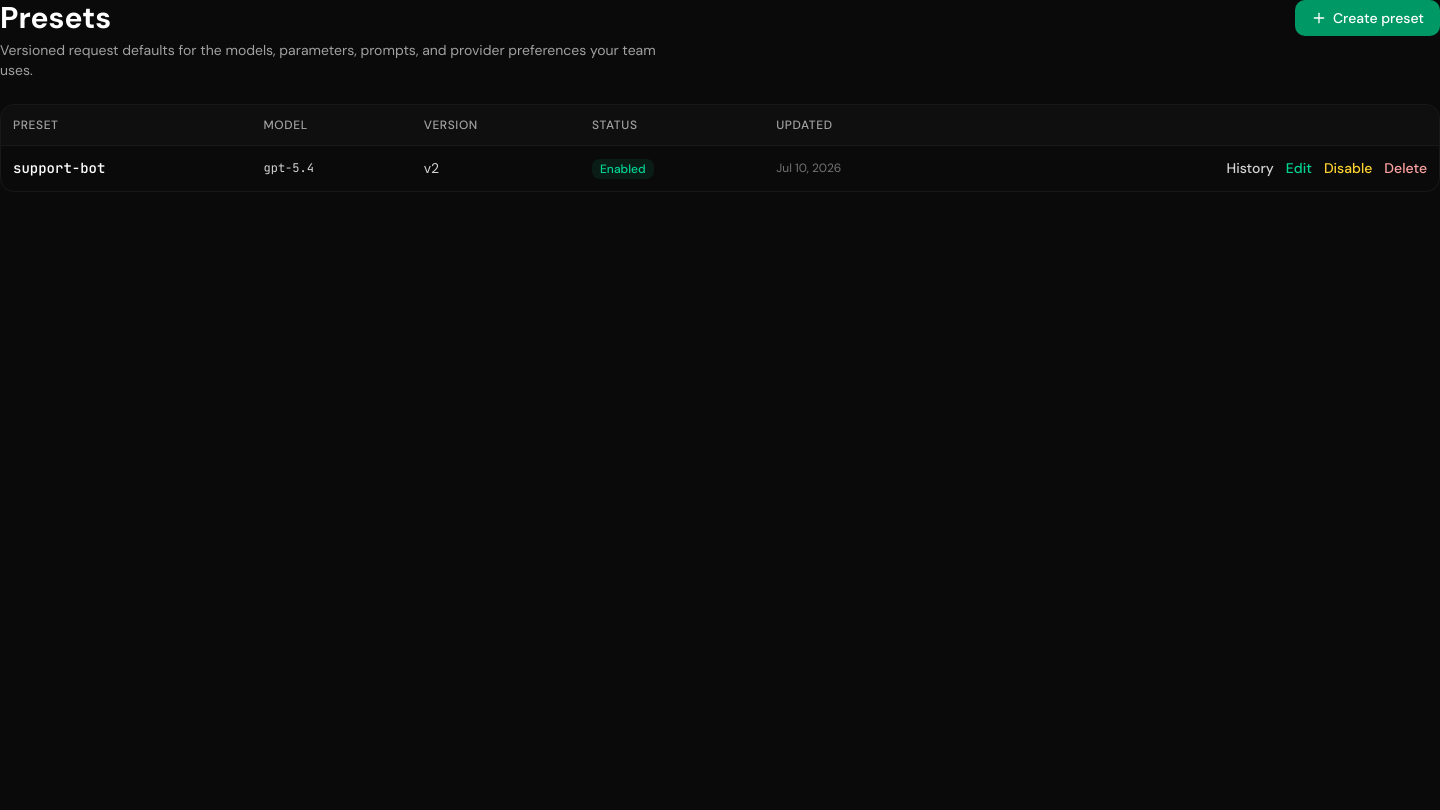
PresetsManager › shows the exact stale-cache warning when a saved preset change is only partially applied
Check: the text "support-bot" is shown, box x1=1 y1=145 x2=252 y2=190
Step 1. Click the button with aria-label "Disable support-bot" → click(1348, 168), box x1=1324 y1=158 x2=1372 y2=178
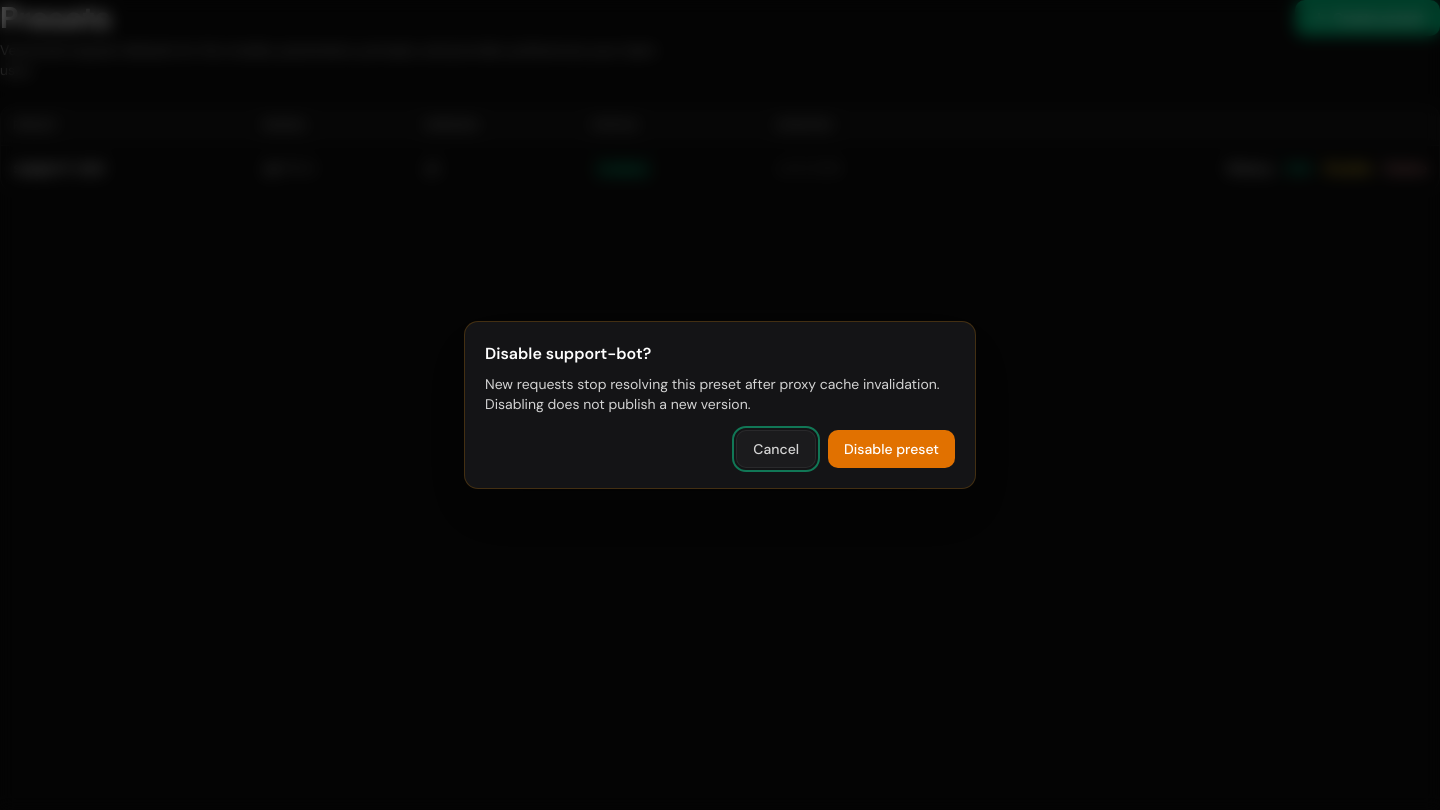
Step 2. Click the button with aria-label "Confirm disable support-bot" → click(892, 449), box x1=828 y1=430 x2=955 y2=468
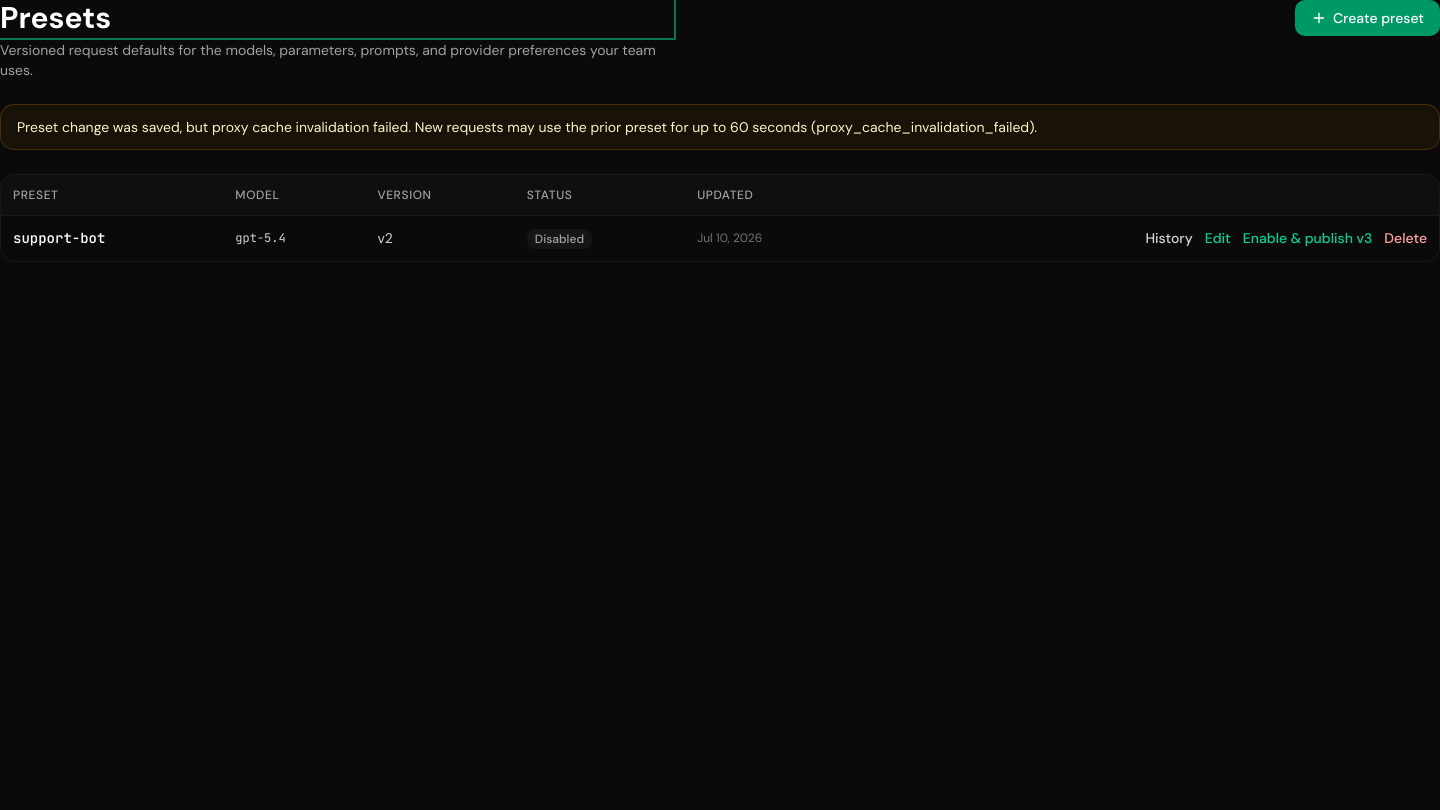
Check: the message shows "proxy_cache_invalidation_failed", box x1=17 y1=118 x2=1037 y2=136
Check: the message shows "for up to 60 seconds", box x1=17 y1=118 x2=1037 y2=136
